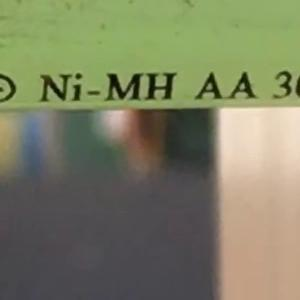NI-MH: (30, 63, 175, 112)
